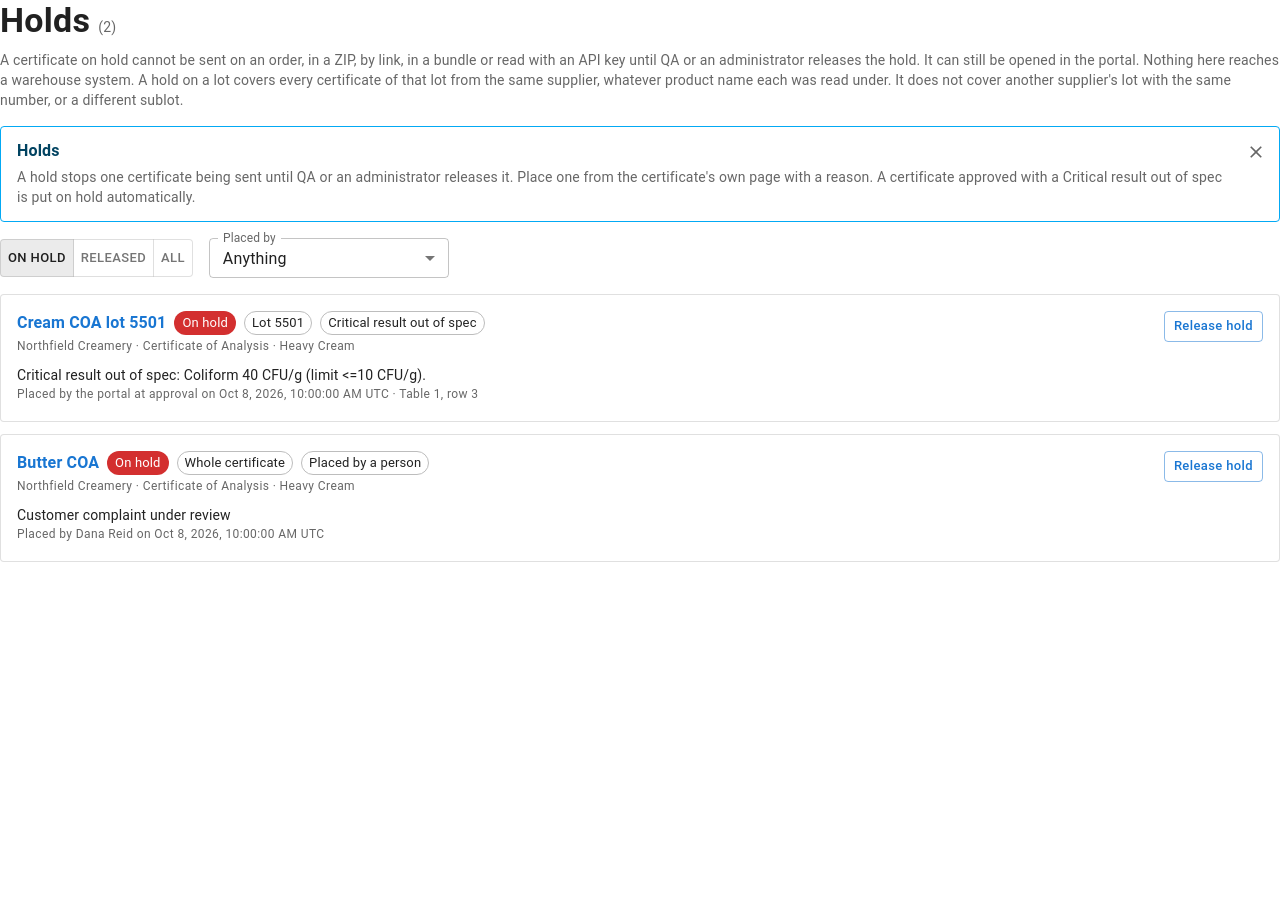
Test: Holds page › a refused release stays in the dialog with the server's words
Click the button with test id "hold-row-release-button" at (1213, 326), box [1164,311,1263,342]
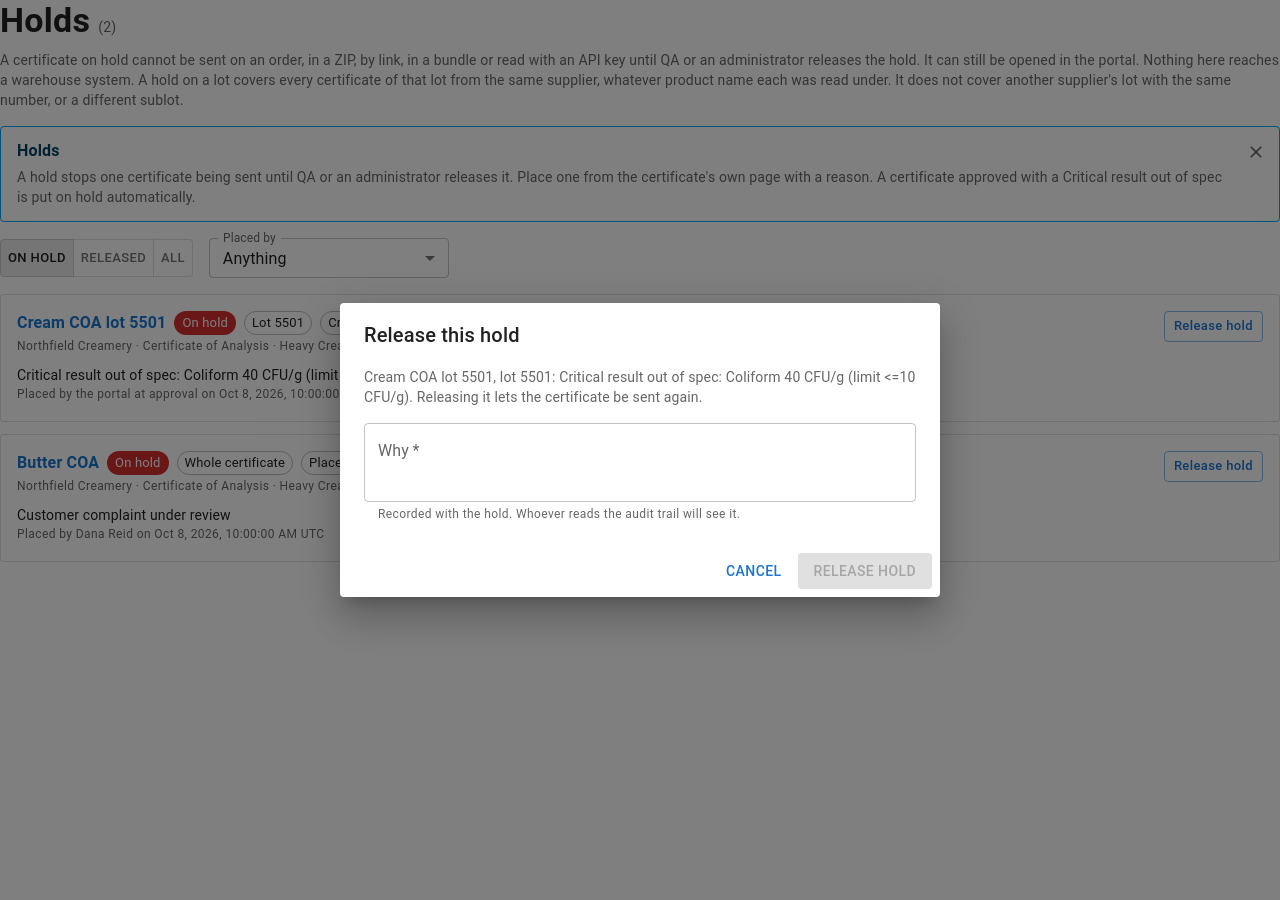
Type "Clean" into the text box with test id "hold-reason" at (640, 462), box [378,439,902,485]
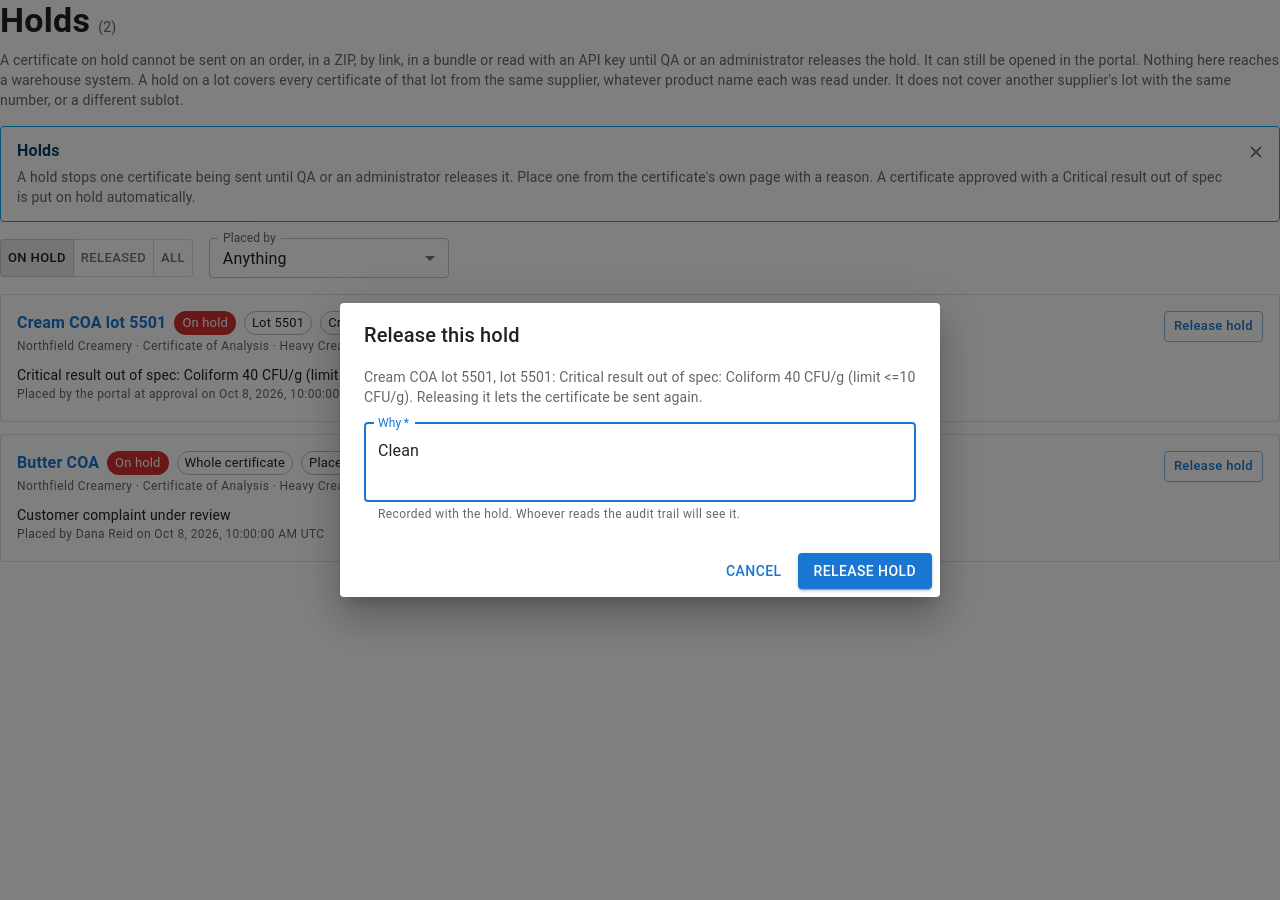
Click the button with test id "hold-confirm" at (865, 571), box [798,553,932,589]
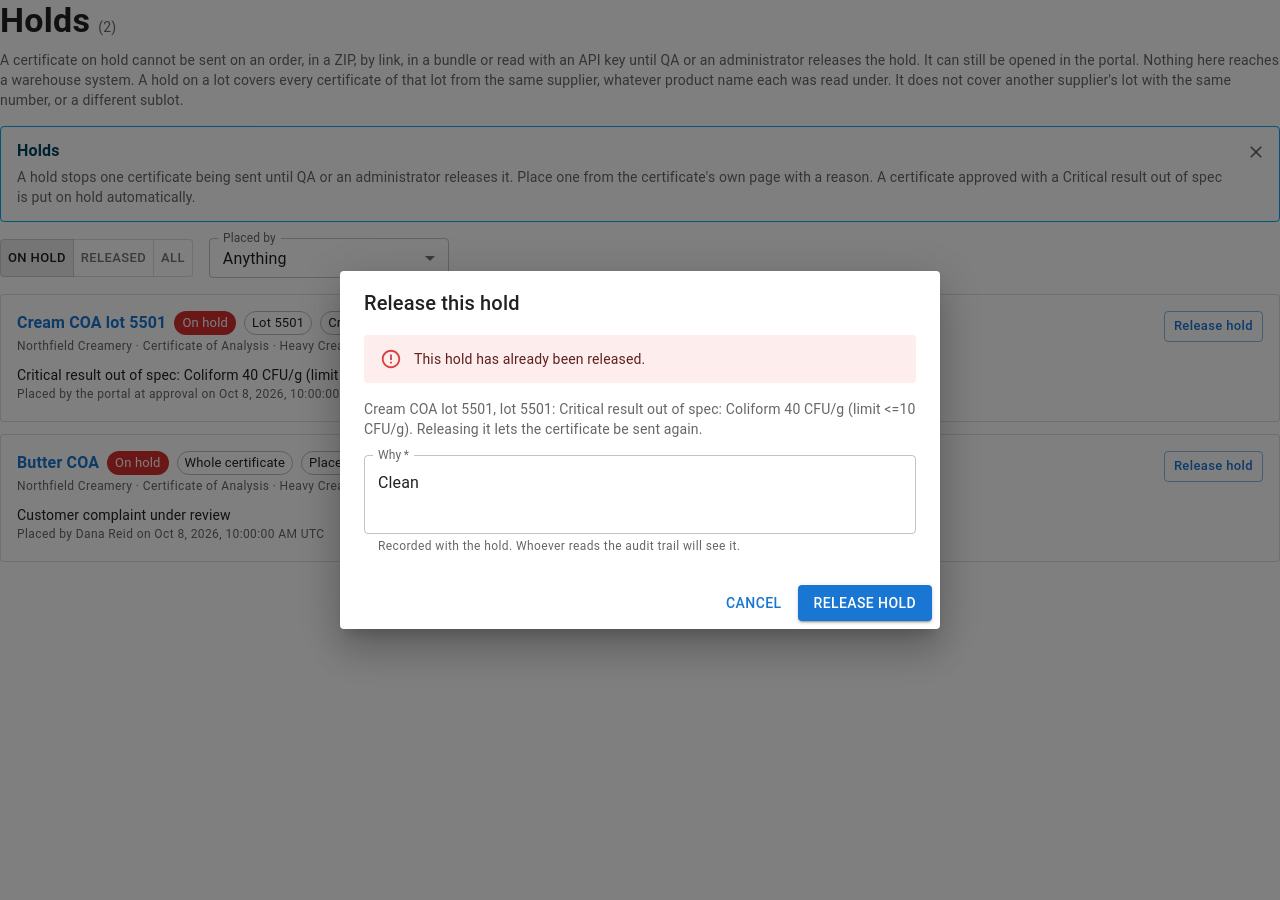
Expected: the message with test id "hold-dialog-error" shows "already been released", [414,351,645,367]
